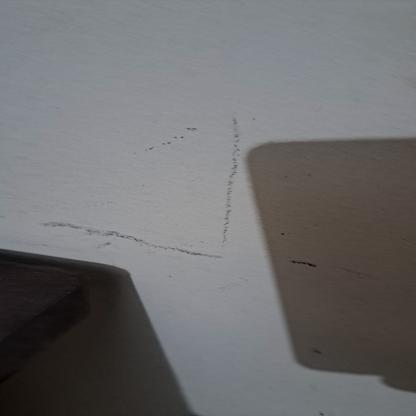spot: (30, 103, 247, 268), (277, 254, 341, 274)
